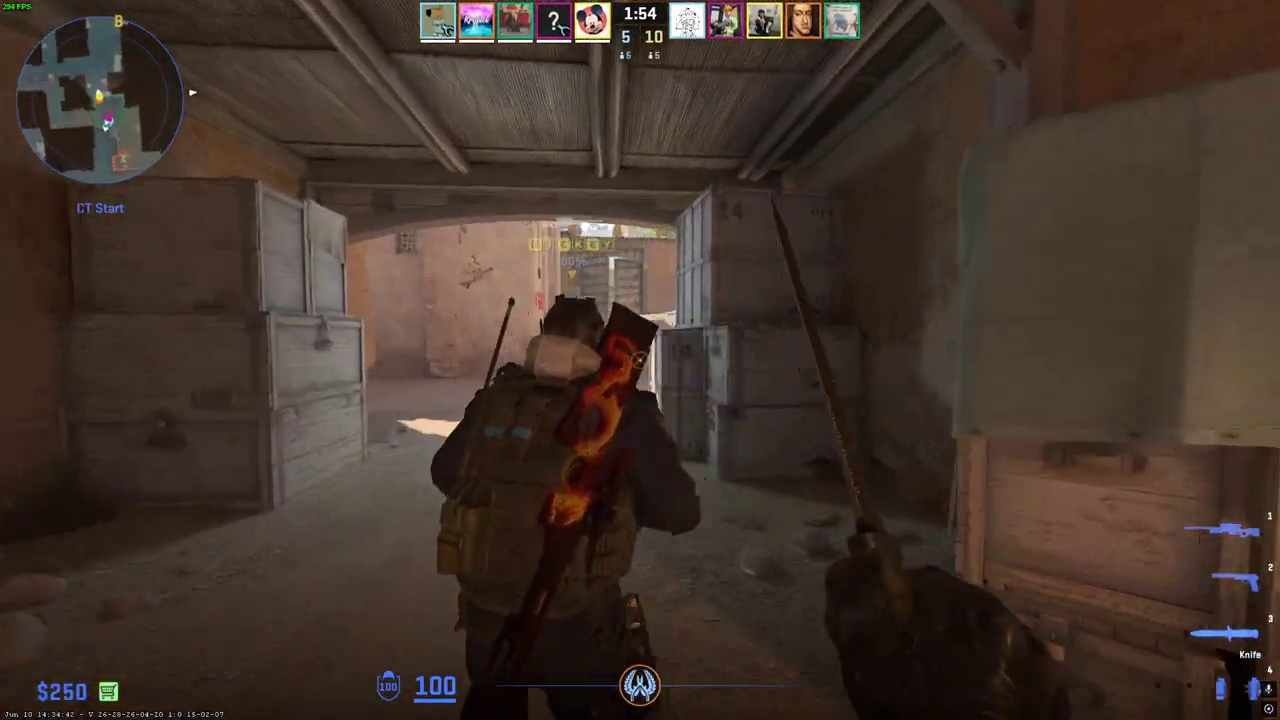CT: (454, 298, 684, 720)
